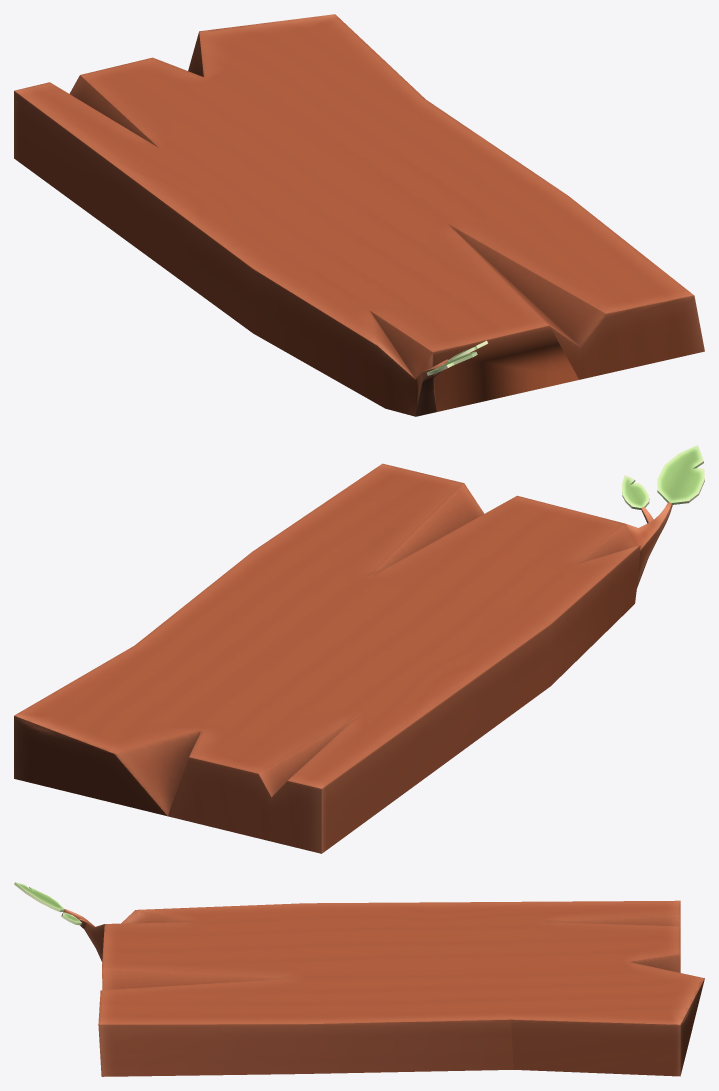
The model's file is log_small.fbx.
The picture shows the model from 3 angles, top to bottom: view 1: azimuth 30°, elevation 25°; view 2: azimuth 150°, elevation 25°; view 3: azimuth 270°, elevation 25°; orthographic projection. The views are drawn at different scales.
Visible parts, largest first — view 1: log_small; view 2: log_small; view 3: log_small.
Boxes of the visible parts, x1,y1,x2,y2 form: log_small: [14, 14, 704, 416]; log_small: [14, 445, 704, 853]; log_small: [14, 882, 704, 1076].
Bounding box in the file's own units: 360 × 116 × 857.
